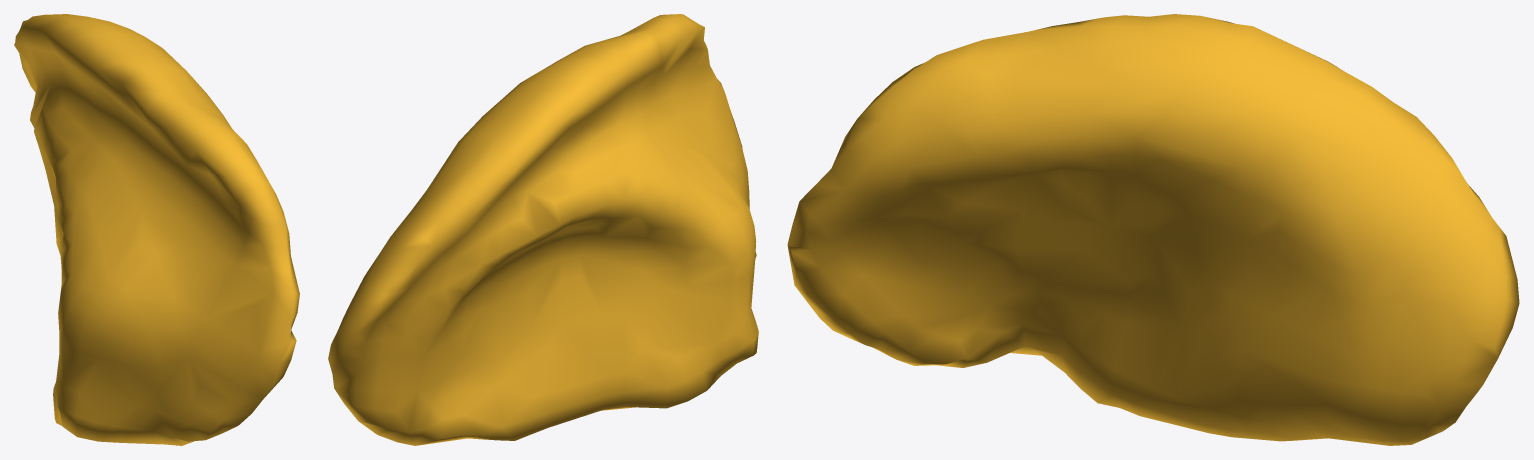
File: nervoso-lentiform-nucleus-l.glb
The picture shows the model from 3 angles, left to right: view 1: azimuth 30°, elevation 25°; view 2: azimuth 150°, elevation 25°; view 3: azimuth 270°, elevation 25°; orthographic projection. The views are drawn at different scales.
Parts seen in each view (by area): view 1: Lentiform nucleus.l; view 2: Lentiform nucleus.l; view 3: Lentiform nucleus.l.
Boxes of the visible parts, x1=… form: Lentiform nucleus.l: x1=14, y1=14, x2=299, y2=445; Lentiform nucleus.l: x1=328, y1=14, x2=758, y2=445; Lentiform nucleus.l: x1=787, y1=14, x2=1519, y2=445.
Bounding box in the file's own units: 0.0222 × 0.0321 × 0.0523.
